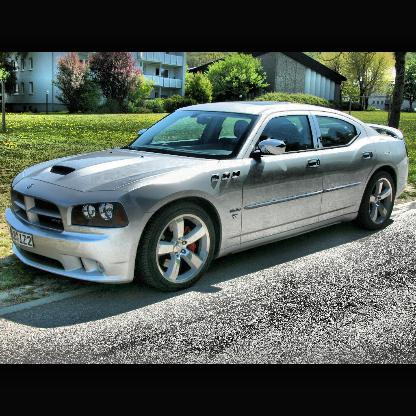Dodge Charger SRT-8 2009: (5, 101, 410, 292)
